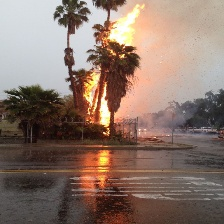fire: (78, 4, 146, 126)
smoke: (137, 2, 224, 131)
